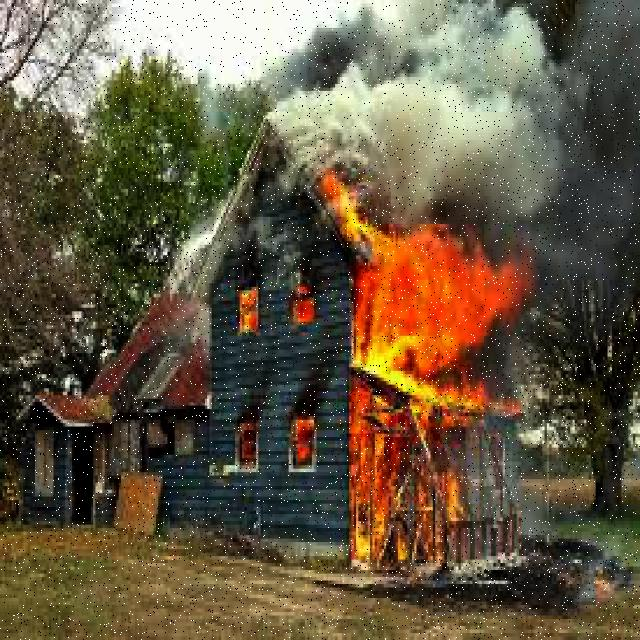fire: (345, 185, 491, 552)
smoke: (324, 27, 621, 182)
